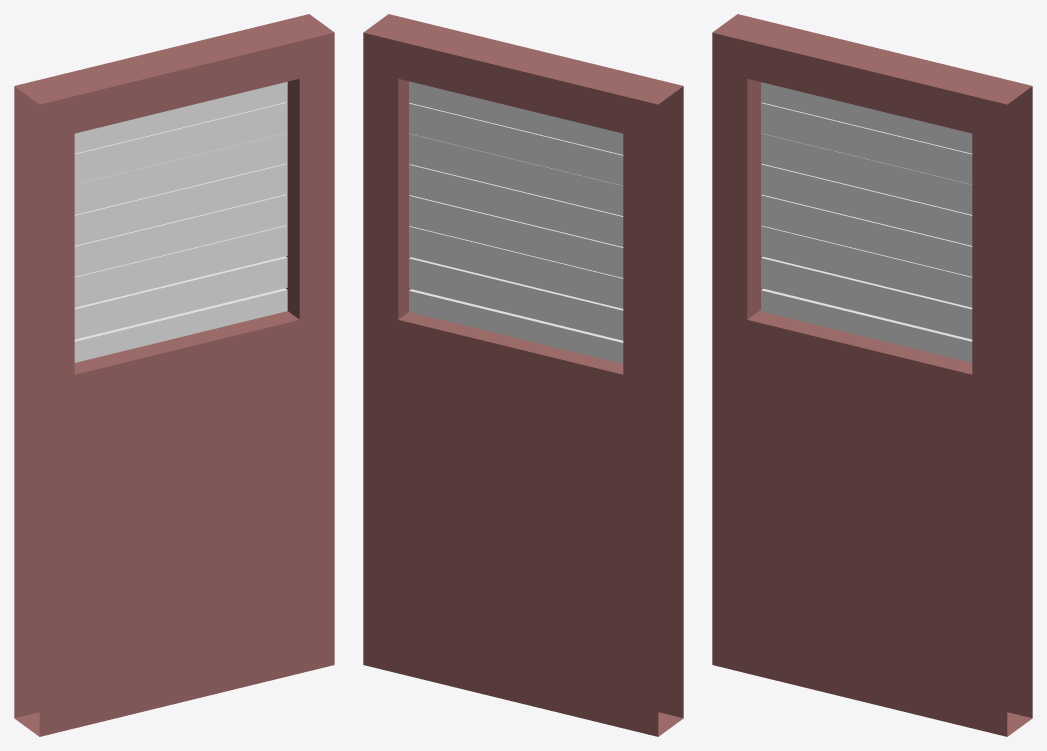
File: Puertadelzotano.fbx
3 views of the same model, side by side, from view 1: azimuth 30°, elevation 25°; view 2: azimuth 150°, elevation 25°; view 3: azimuth 330°, elevation 25° (orthographic).
Visible parts, largest first — view 1: Cube.051; view 2: Cube.051; view 3: Cube.051.
Boxes of the visible parts, left/top/right/bottom form: Cube.051: left=14, top=14, right=334, bottom=736; Cube.051: left=363, top=14, right=683, bottom=736; Cube.051: left=712, top=14, right=1032, bottom=736.
Size of the model in its own units: 270 by 552 by 40.32.
